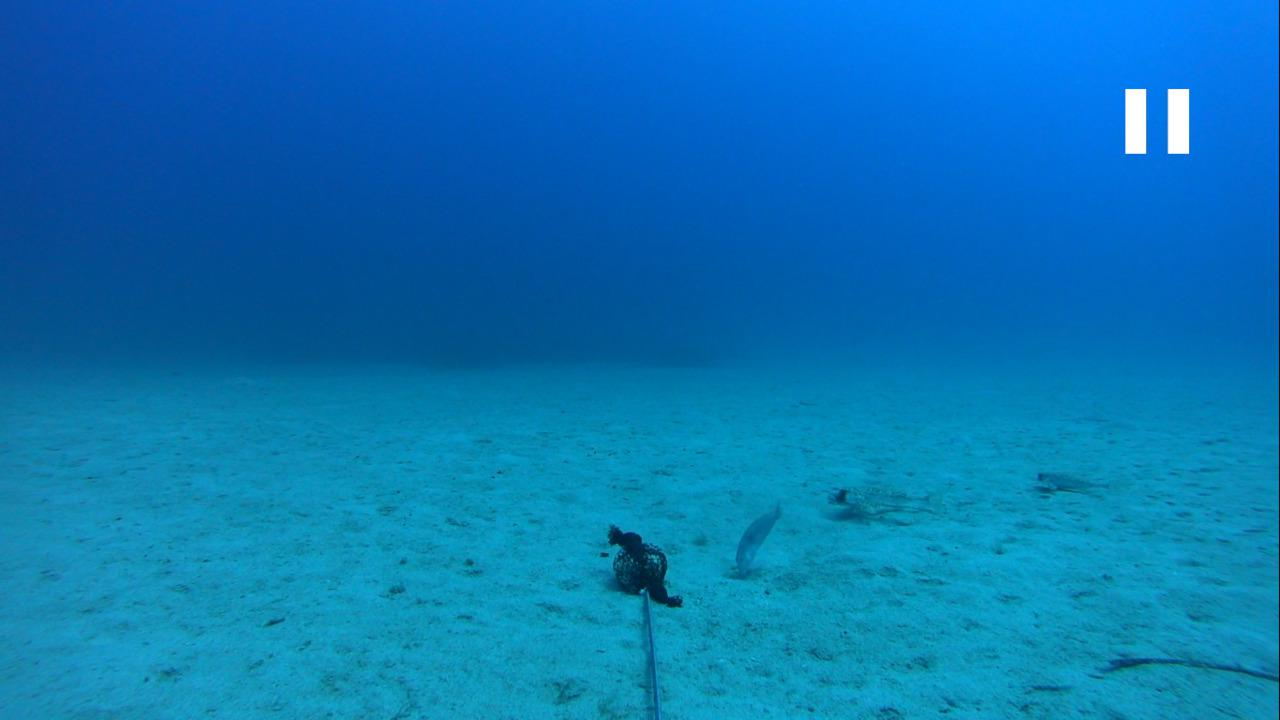dactylopterus: (820, 482, 940, 528), (1020, 463, 1101, 504)
raor: (726, 499, 786, 575)
